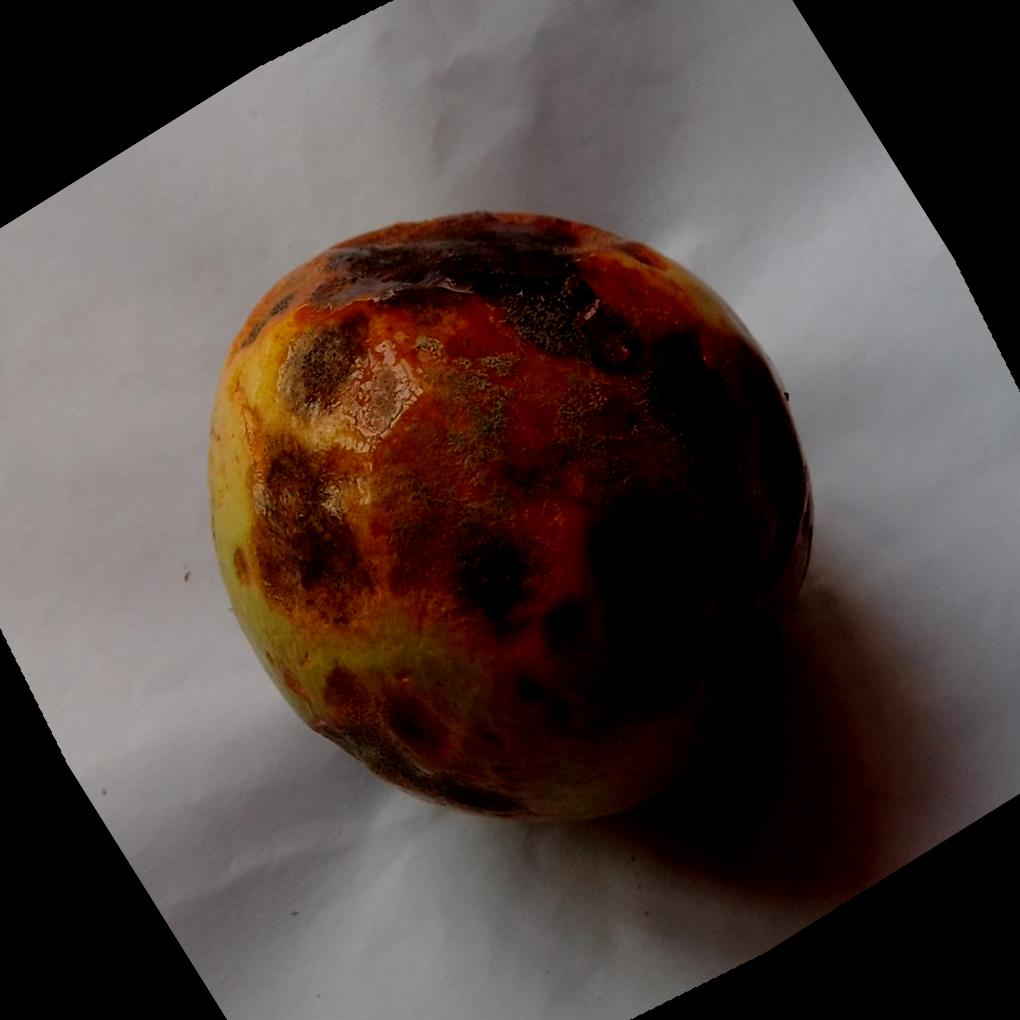FreshOrange: (205, 210, 816, 828)
